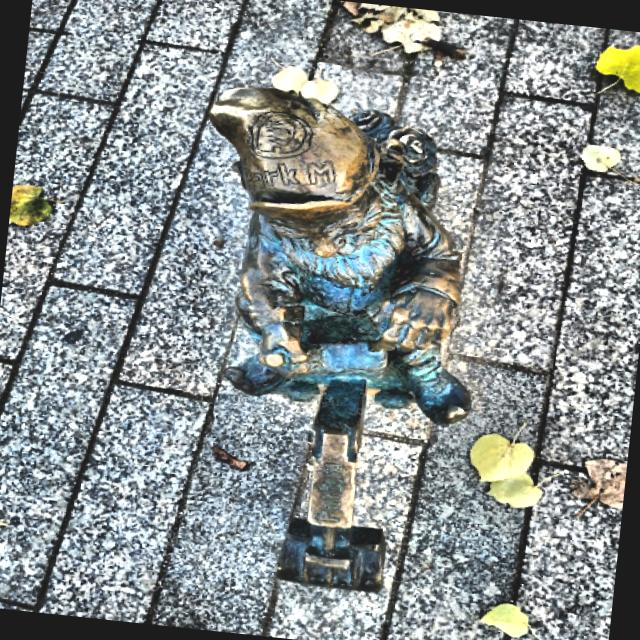Koparkus: (209, 88, 469, 590)
